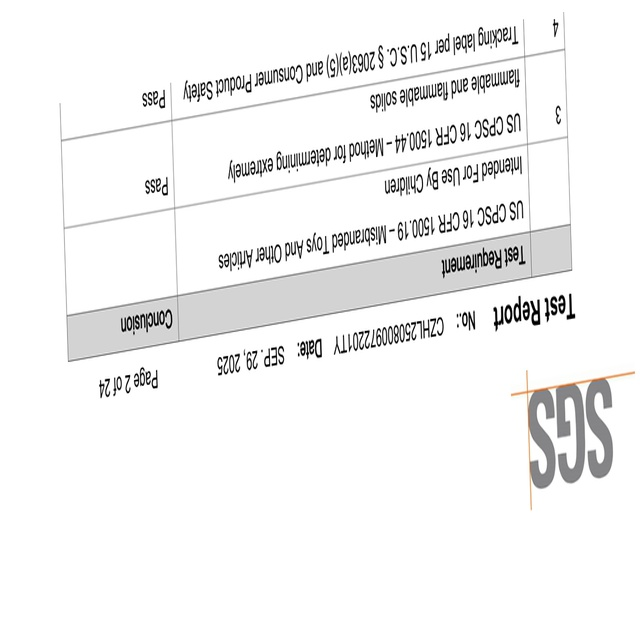sgs: (527, 378, 612, 489)
